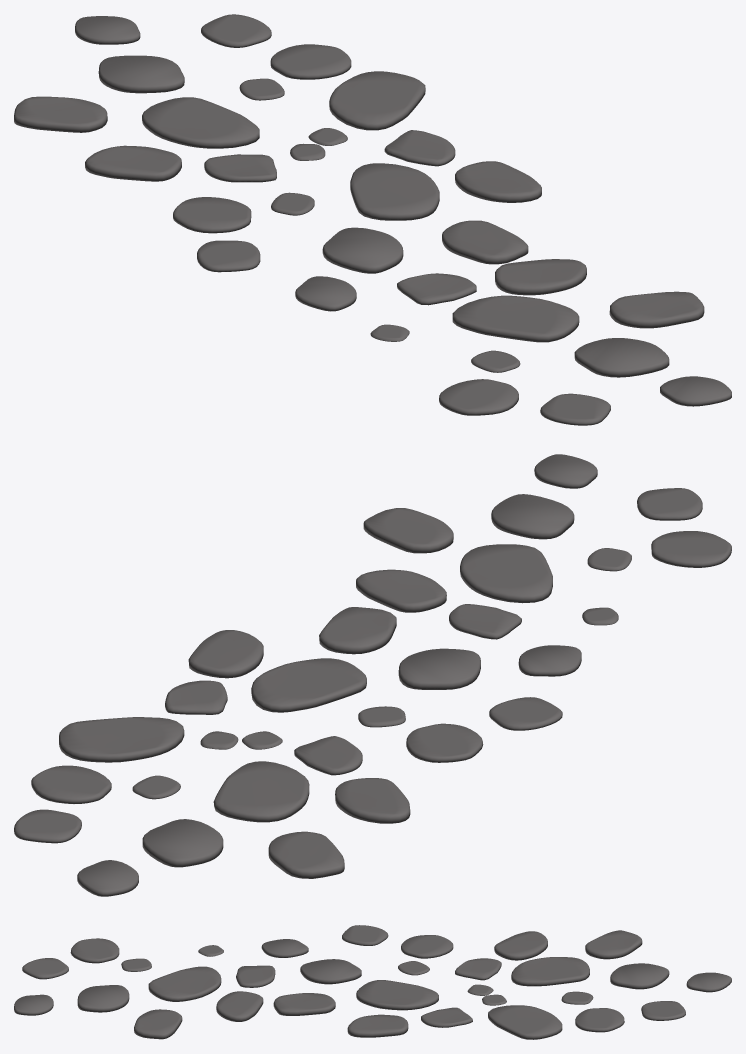
The model's file is path.fbx.
The picture shows the model from 3 angles, top to bottom: view 1: azimuth 30°, elevation 25°; view 2: azimuth 150°, elevation 25°; view 3: azimuth 270°, elevation 25°; orthographic projection. The views are drawn at different scales.
Visible parts, largest first — view 1: F_Diorama; view 2: F_Diorama; view 3: F_Diorama.
Boxes of the visible parts, x1,y1,x2,y2 form: F_Diorama: (14, 14, 731, 425); F_Diorama: (14, 454, 731, 896); F_Diorama: (14, 925, 731, 1039).
Size of the model in its own units: 1262 by 39.35 by 3427.
